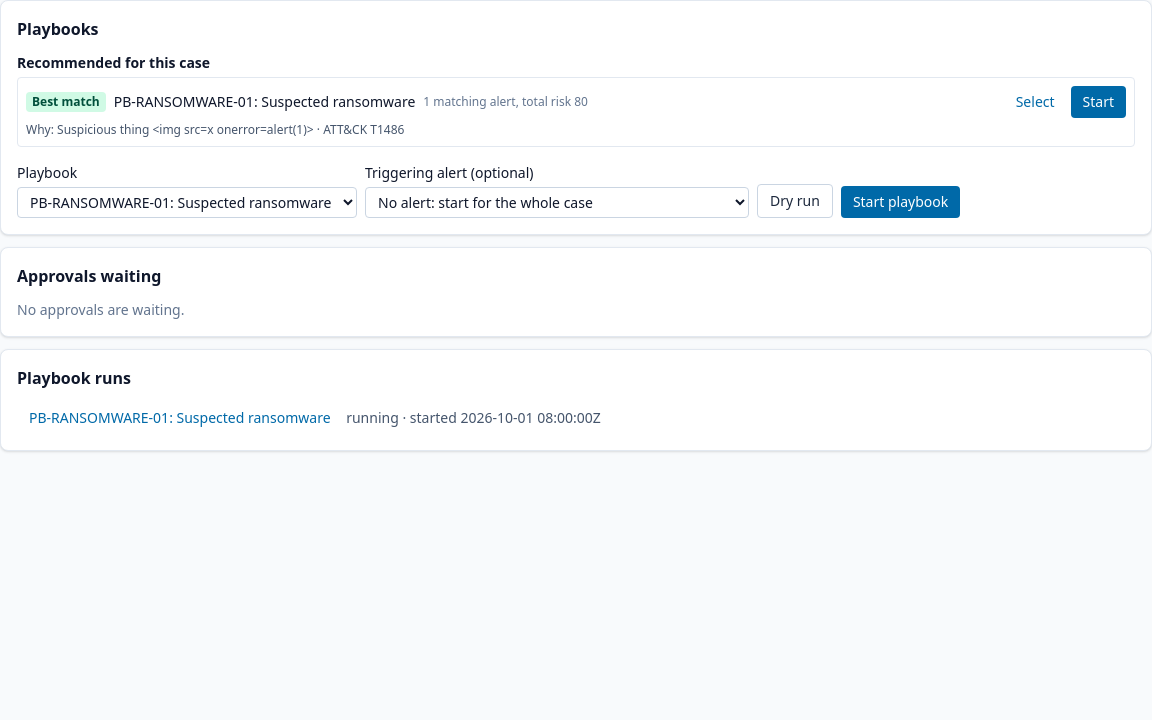
Test: response tab › a dry run shows the plan and says nothing was written
Click the button "Dry run". click: (795, 201)
box: [757,184,833,218]
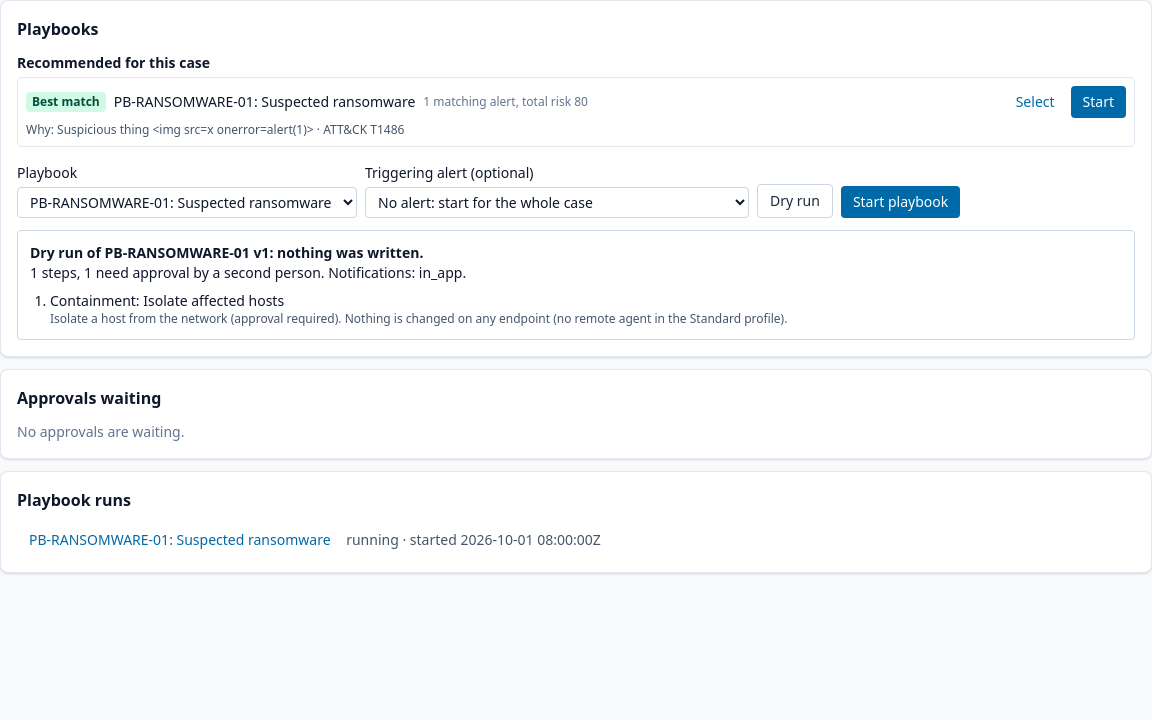
Check: the form "Start playbook" is shown, box [17,163,960,218]
Check: the text "Dry run of PB-RANSOMWARE-01 v1: nothing was written." is shown, box [30,243,423,262]
Check: the text "Nothing is changed on any endpoint" is shown, box [345,310,787,327]
